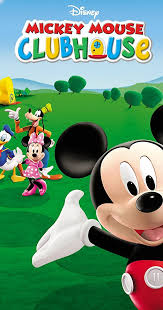mickey: (31, 104, 163, 310)
